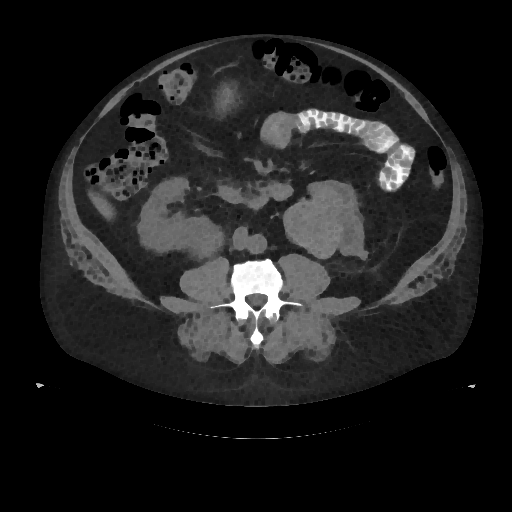Lesion: (282, 200, 343, 262)
